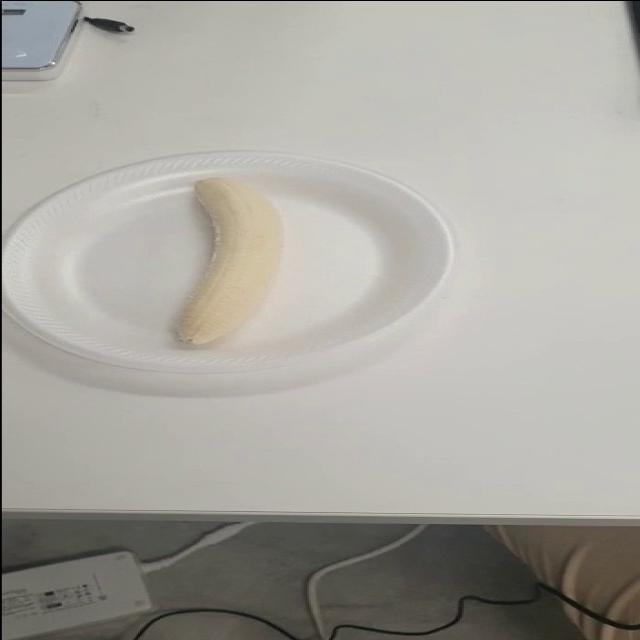Banana: (164, 170, 298, 361)
